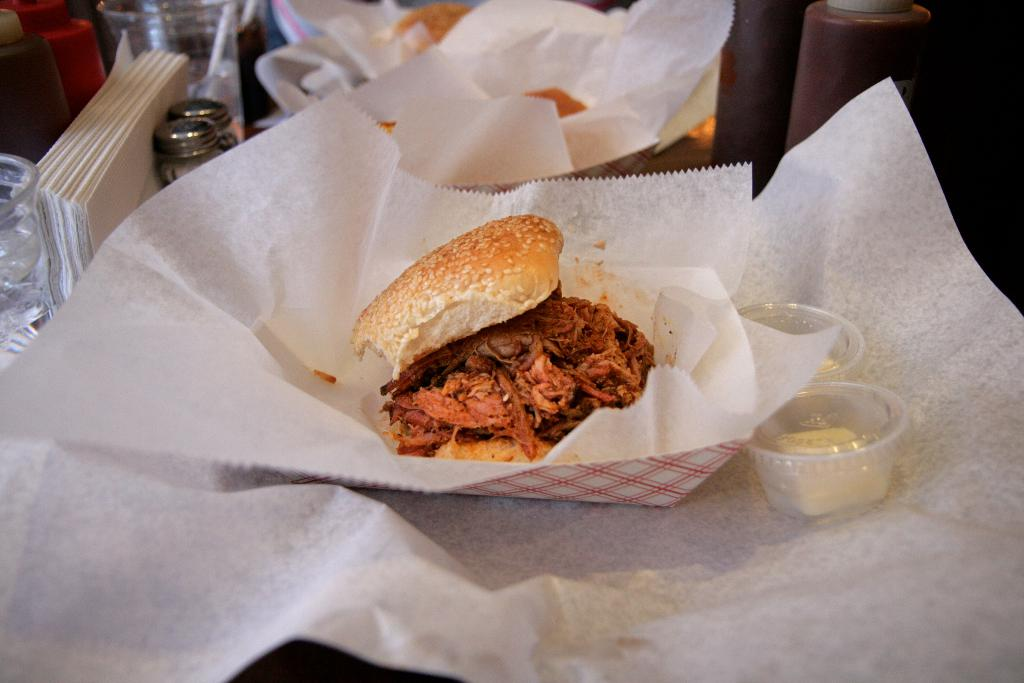Hamburger: (340, 215, 665, 470)
